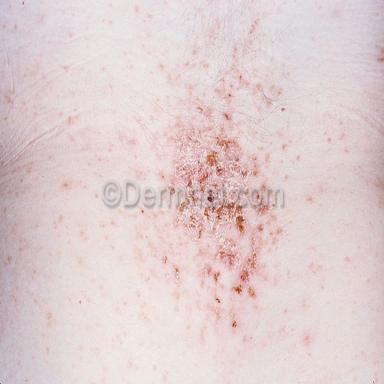Darier_s-Disease: (160, 1, 286, 188), (142, 207, 276, 336)
